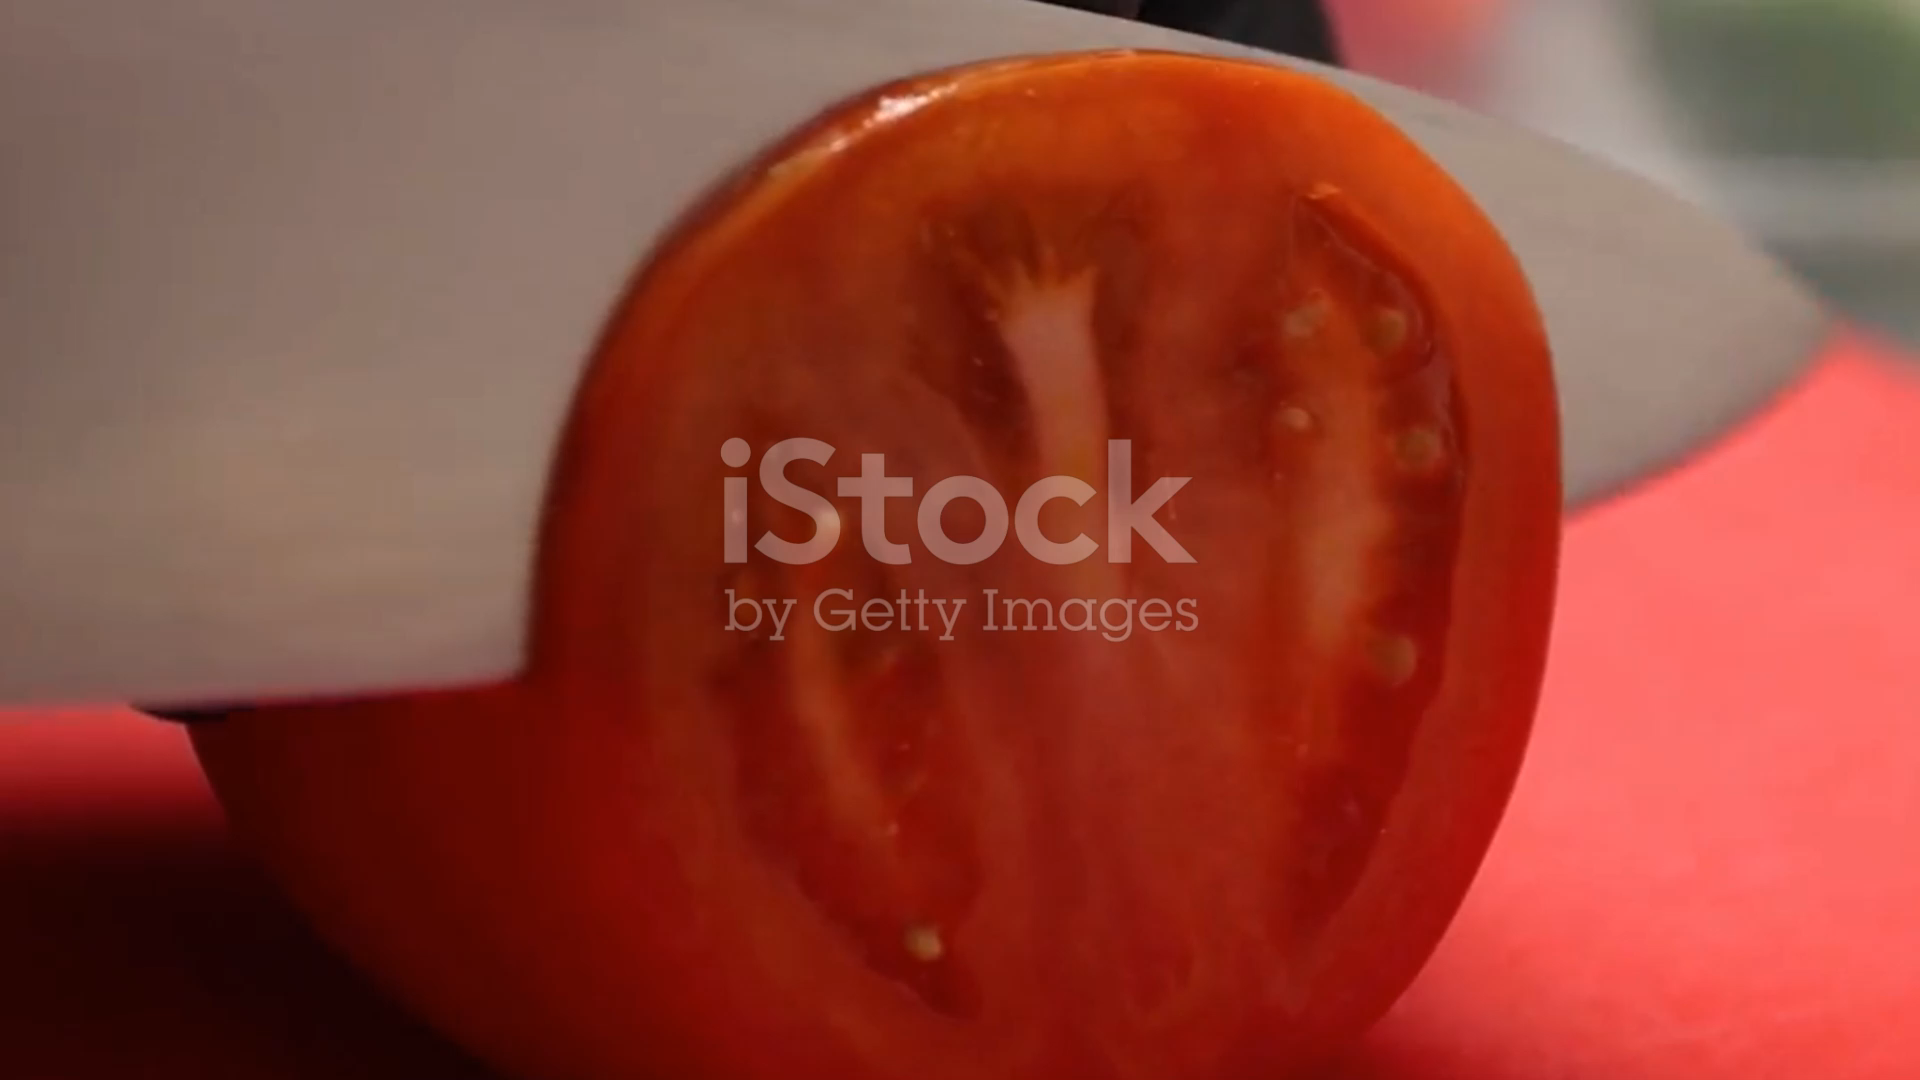cortante: (0, 0, 1844, 713)
